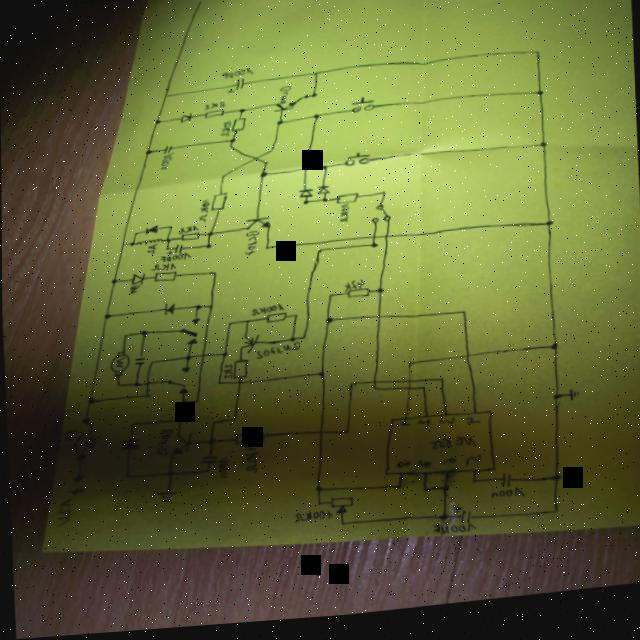capacitor: (452, 509, 473, 531), (226, 80, 245, 96), (498, 478, 511, 495), (165, 244, 183, 256), (198, 455, 216, 467), (133, 356, 145, 367), (161, 147, 171, 155)
crossover: (374, 317, 381, 324), (316, 432, 322, 439), (234, 382, 241, 388), (382, 238, 388, 244), (370, 383, 376, 389), (405, 383, 411, 389), (405, 390, 411, 396), (302, 170, 308, 175), (370, 239, 376, 244), (463, 359, 469, 364), (252, 159, 258, 163), (143, 382, 149, 386), (198, 355, 204, 359)
diode: (127, 273, 146, 295), (118, 437, 141, 453), (297, 190, 313, 202), (314, 188, 329, 199), (162, 303, 174, 316), (143, 225, 157, 236), (179, 113, 191, 124)
ground: (154, 489, 176, 505), (566, 395, 579, 408)
inductor: (134, 238, 162, 247)
junction: (550, 399, 561, 407), (549, 481, 561, 488), (85, 396, 94, 405), (548, 349, 558, 357), (206, 439, 216, 447), (439, 490, 449, 497), (437, 519, 447, 526), (163, 471, 173, 478), (544, 226, 553, 233), (258, 174, 267, 181), (178, 400, 185, 409), (535, 96, 543, 103), (311, 116, 319, 123), (275, 122, 283, 129), (369, 246, 377, 253), (375, 291, 383, 298), (315, 374, 323, 381), (313, 489, 321, 496), (176, 417, 184, 424), (538, 148, 547, 154), (193, 305, 200, 312), (102, 313, 109, 320), (122, 473, 129, 480), (320, 168, 328, 174), (324, 321, 332, 327), (139, 331, 147, 337), (153, 120, 161, 126), (144, 150, 152, 156), (469, 484, 476, 490), (419, 389, 425, 396), (437, 381, 443, 388), (221, 352, 227, 359), (207, 305, 213, 312), (183, 356, 190, 362), (132, 382, 139, 388), (110, 278, 116, 285), (301, 203, 309, 208), (237, 110, 245, 115), (421, 492, 427, 498), (550, 515, 556, 521), (320, 201, 326, 207), (342, 432, 348, 438), (315, 251, 321, 257), (288, 339, 294, 345), (211, 272, 217, 278), (209, 421, 215, 427), (127, 241, 133, 247), (164, 238, 170, 244), (205, 233, 212, 238), (204, 245, 211, 250), (228, 140, 235, 145), (262, 248, 268, 253), (219, 176, 225, 181), (405, 366, 411, 371), (300, 338, 306, 343), (214, 382, 220, 387), (230, 418, 236, 423), (192, 400, 198, 405), (143, 393, 149, 398), (121, 334, 127, 339), (459, 315, 466, 319), (263, 163, 268, 168), (370, 390, 375, 395), (292, 316, 297, 321), (163, 247, 168, 252), (394, 489, 400, 493), (534, 57, 540, 61), (312, 75, 318, 79), (310, 96, 316, 100), (267, 151, 273, 155), (380, 195, 386, 199), (326, 297, 332, 301), (347, 386, 353, 390), (315, 505, 321, 509), (225, 324, 231, 328), (129, 423, 135, 427), (148, 361, 154, 365), (166, 226, 172, 230), (202, 470, 208, 474), (162, 95, 168, 99), (227, 146, 232, 150), (243, 321, 248, 325), (114, 383, 119, 387), (120, 242, 124, 247), (132, 232, 137, 236)
resistor: (328, 498, 353, 530), (232, 432, 264, 447), (208, 193, 227, 213), (231, 360, 248, 381), (152, 271, 178, 284), (334, 196, 358, 209), (263, 314, 286, 326), (229, 120, 245, 135), (345, 292, 369, 302), (202, 111, 224, 120), (179, 233, 199, 242)
switch: (165, 367, 190, 397), (177, 319, 201, 347), (342, 154, 370, 171), (349, 99, 374, 118), (369, 207, 390, 229)
terminal: (70, 472, 83, 483), (196, 1, 203, 8)
text: (53, 486, 84, 526), (254, 343, 300, 362), (427, 439, 476, 456), (430, 525, 475, 541), (291, 511, 332, 527), (242, 445, 260, 477), (241, 231, 260, 260), (488, 492, 524, 507), (153, 429, 172, 457), (248, 305, 284, 318), (218, 69, 253, 82), (215, 458, 230, 481), (196, 199, 209, 224), (159, 253, 190, 263), (342, 282, 363, 296), (82, 433, 98, 451), (150, 262, 176, 273), (337, 206, 350, 227), (158, 154, 174, 171), (278, 88, 292, 107), (203, 101, 225, 112), (218, 122, 231, 139), (463, 459, 480, 472), (176, 226, 198, 235), (62, 428, 77, 441), (221, 365, 232, 382), (463, 421, 479, 431), (437, 421, 453, 431), (394, 464, 410, 474), (145, 244, 157, 256), (439, 462, 455, 471), (416, 463, 430, 473), (415, 423, 429, 431), (397, 425, 409, 432)
transistor: (169, 432, 192, 457), (272, 98, 302, 115), (238, 336, 259, 356), (244, 218, 270, 232)
